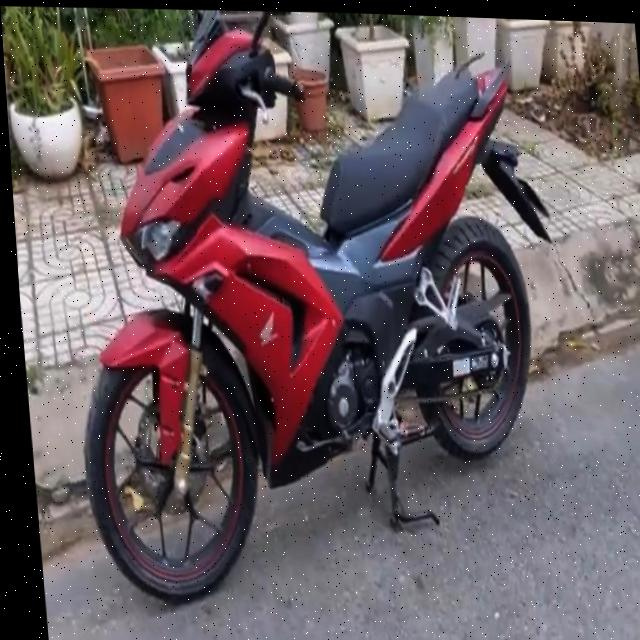motorcycle: (45, 2, 591, 627)
